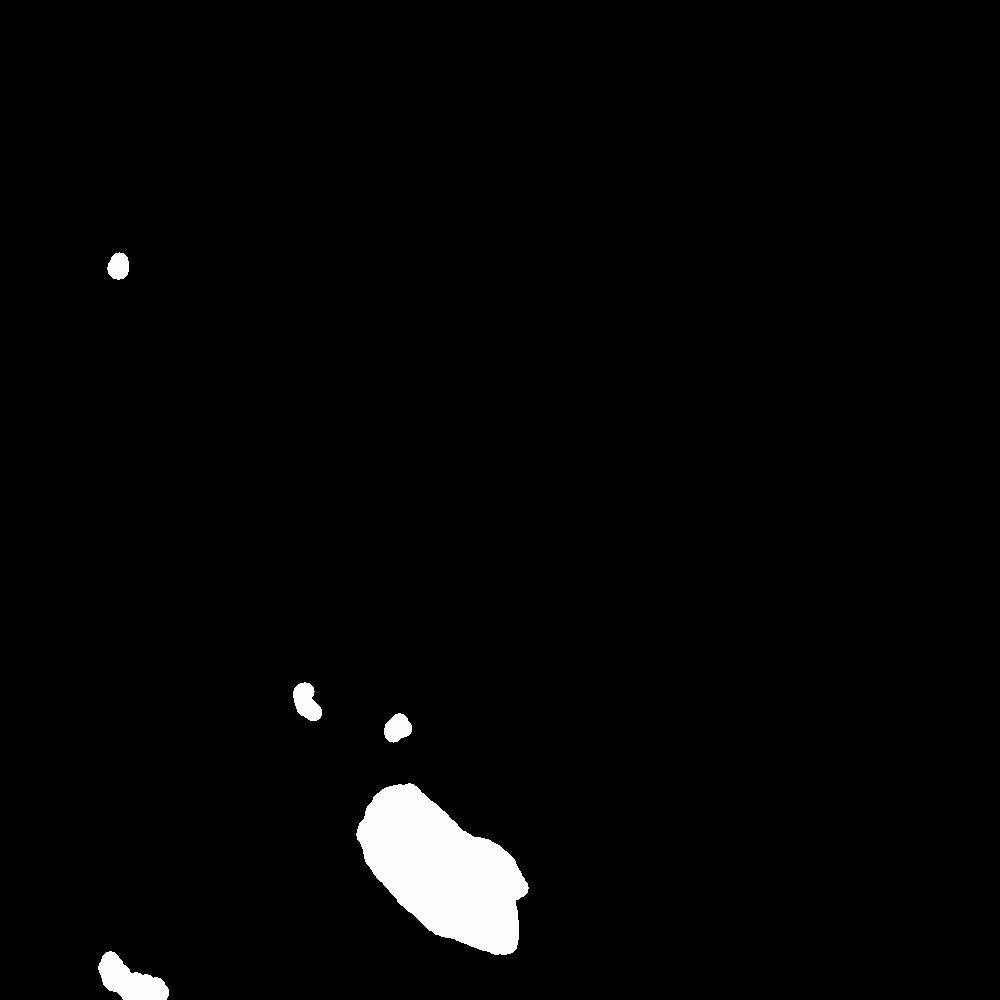illegal: (364, 715, 537, 964), (79, 923, 172, 1000), (287, 682, 326, 730), (108, 252, 128, 281)
